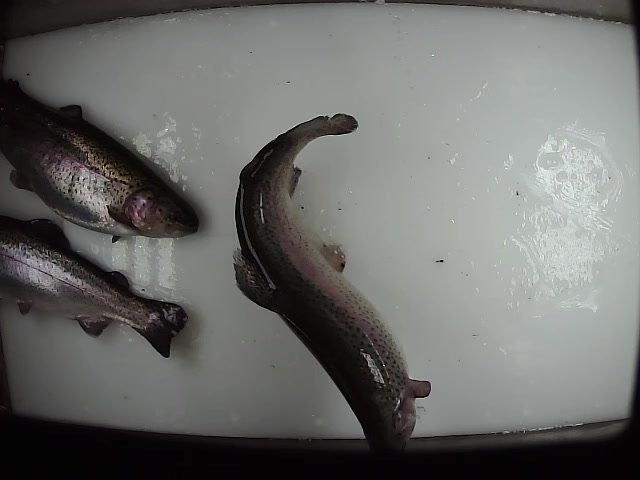fish: (230, 112, 433, 463), (1, 59, 201, 245), (1, 215, 190, 365)
